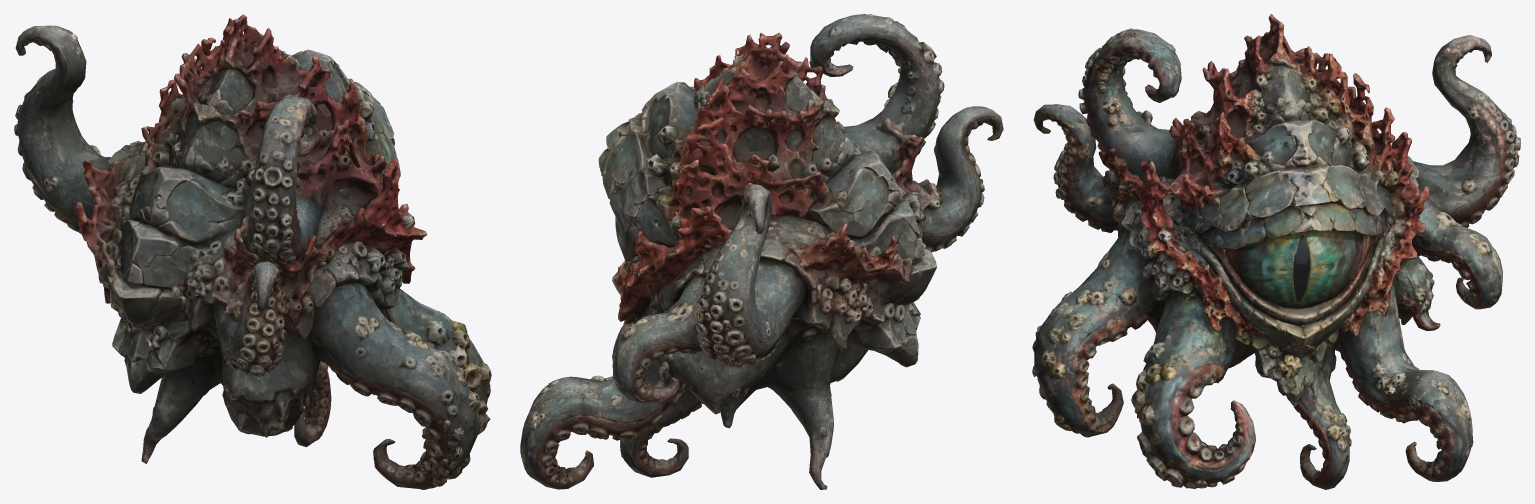
3 renders of one model, left to right at view 1: azimuth 30°, elevation 25°; view 2: azimuth 150°, elevation 25°; view 3: azimuth 270°, elevation 25°, orthographic. The views are drawn at different scales.
Visible parts, largest first — view 1: tripo_node_bbdc6805-9752-478e-8919-fa99505f971c; view 2: tripo_node_bbdc6805-9752-478e-8919-fa99505f971c; view 3: tripo_node_bbdc6805-9752-478e-8919-fa99505f971c.
Boxes of the visible parts, <box> form: tripo_node_bbdc6805-9752-478e-8919-fa99505f971c: <box>14,14,491,489</box>; tripo_node_bbdc6805-9752-478e-8919-fa99505f971c: <box>520,14,1003,489</box>; tripo_node_bbdc6805-9752-478e-8919-fa99505f971c: <box>1032,14,1520,489</box>.
Bounding box in the file's own units: 0.7147 × 0.9434 × 0.9777.
Materials: 1 (1 with a texture image).
